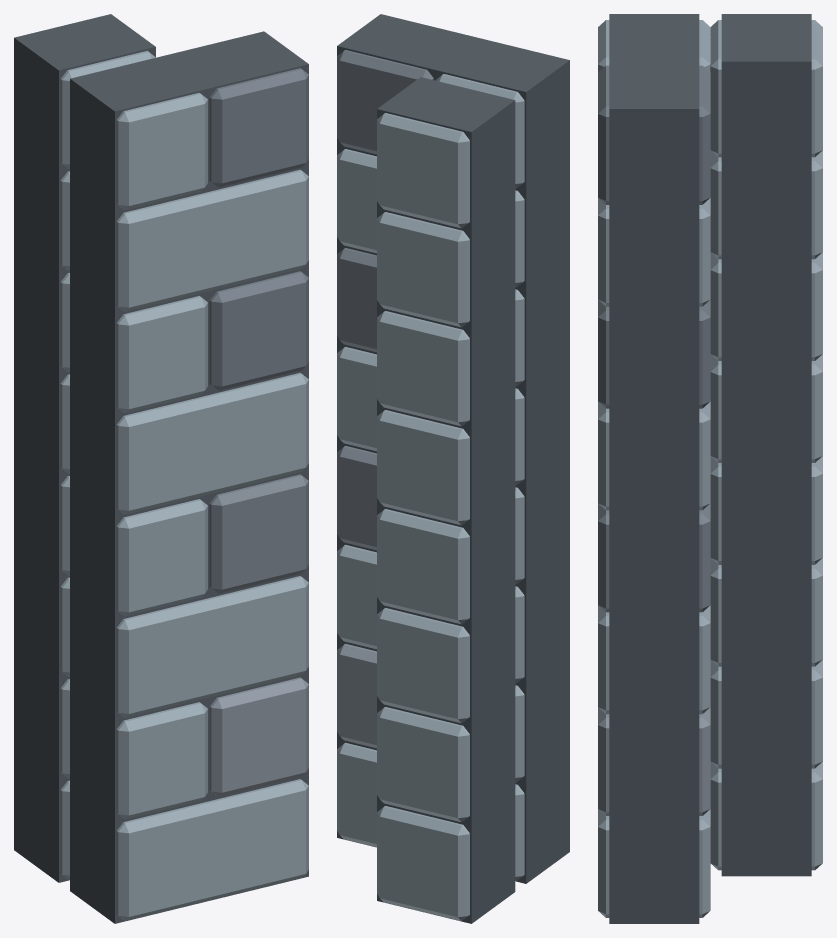
The model's file is MOD_18_Wall_OuterCorner.glb.
3 renders of one model, left to right at view 1: azimuth 30°, elevation 25°; view 2: azimuth 150°, elevation 25°; view 3: azimuth 270°, elevation 25°, orthographic. The views are drawn at different scales.
Visible parts, largest first — view 1: MOD_18_Wall_OuterCorner; view 2: MOD_18_Wall_OuterCorner; view 3: MOD_18_Wall_OuterCorner.
Boxes of the visible parts, x1=… form: MOD_18_Wall_OuterCorner: x1=14, y1=14, x2=308, y2=923; MOD_18_Wall_OuterCorner: x1=337, y1=14, x2=569, y2=923; MOD_18_Wall_OuterCorner: x1=598, y1=14, x2=822, y2=923.
Bounding box in the file's own units: 1 × 4 × 1.
